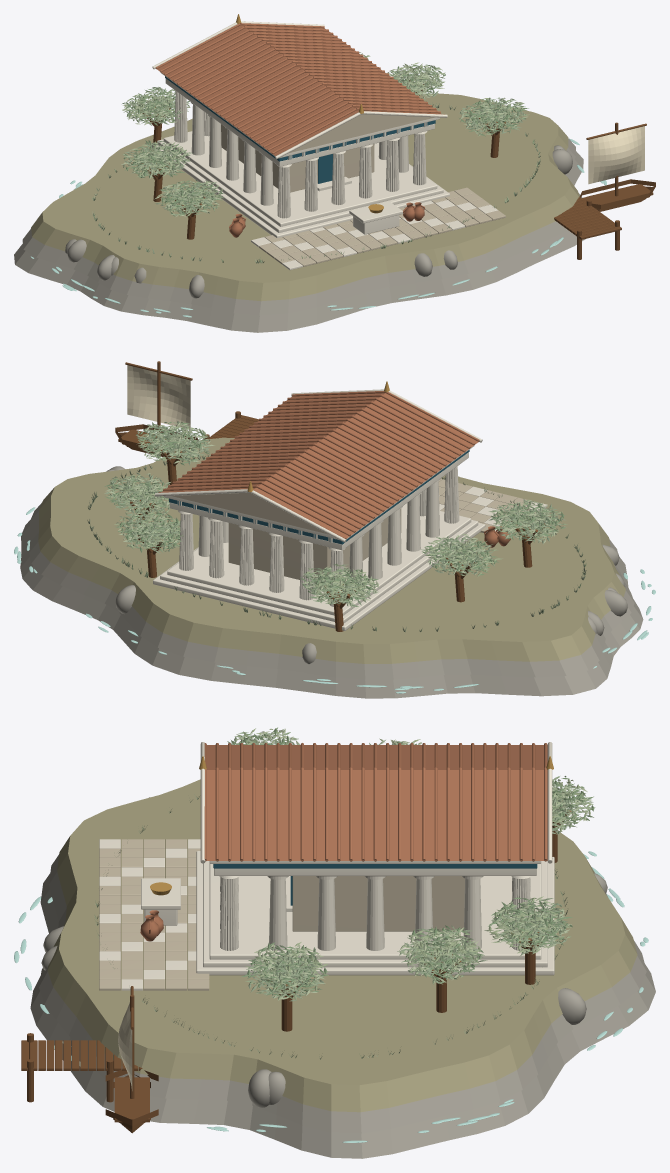
Rendered from sanctuary.glb.
The picture shows the model from 3 angles, top to bottom: view 1: azimuth 30°, elevation 25°; view 2: azimuth 150°, elevation 25°; view 3: azimuth 270°, elevation 25°; orthographic projection. The views are drawn at different scales.
Visible parts, largest first — view 1: Isla estrato 2, Isla estrato 0, Cubierta terracota, Isla estrato 1, Crepidoma escalón 2, Cubierta terracota.001, Voile gonflée en lin, Olivo 4 — hojas lanceoladas, Olivo 1 — hojas lanceoladas, Olivo 2 — hojas lanceoladas, Crepidoma escalón 1, Naos (+24 smaller); view 2: Isla estrato 2, Isla estrato 0, Isla estrato 1, Cubierta terracota, Crepidoma escalón 2, Cubierta terracota.001, Voile gonflée en lin, Naos, Crepidoma escalón 0, Crepidoma escalón 1, Olivo 4 — hojas lanceoladas, Olivo 2 — hojas lanceoladas (+19 smaller); view 3: Isla estrato 2, Cubierta terracota.001, Isla estrato 0, Isla estrato 1, Crepidoma escalón 2, Naos, Cubierta terracota, Olivo 4 — hojas lanceoladas, Crepidoma escalón 0, Olivo 3 — hojas lanceoladas, Olivo 6 — hojas lanceoladas, Crepidoma escalón 1 (+16 smaller).
Boxes of the visible parts, <box> form: Isla estrato 2: <box>31,93,579,301</box>; Isla estrato 0: <box>14,151,585,332</box>; Cubierta terracota: <box>157,25,358,156</box>; Isla estrato 1: <box>22,138,582,315</box>; Crepidoma escalón 2: <box>163,131,437,226</box>; Cubierta terracota.001: <box>241,25,441,114</box>; Voile gonflée en lin: <box>588,126,644,184</box>; Olivo 4 — hojas lanceoladas: <box>459,97,529,136</box>; Olivo 1 — hojas lanceoladas: <box>121,140,193,178</box>; Olivo 2 — hojas lanceoladas: <box>154,180,224,217</box>; Crepidoma escalón 1: <box>157,139,443,232</box>; Naos: <box>221,124,374,192</box>; Isla estrato 2: <box>38,437,625,663</box>; Isla estrato 0: <box>20,520,643,698</box>; Isla estrato 1: <box>29,503,634,679</box>; Cubierta terracota: <box>254,393,478,538</box>; Crepidoma escalón 2: <box>167,503,471,615</box>; Cubierta terracota.001: <box>162,393,385,491</box>; Voile gonflée en lin: <box>127,365,190,429</box>; Naos: <box>228,508,401,583</box>; Crepidoma escalón 0: <box>153,522,485,630</box>; Crepidoma escalón 1: <box>160,520,478,623</box>; Olivo 4 — hojas lanceoladas: <box>136,421,214,465</box>; Olivo 2 — hojas lanceoladas: <box>489,498,567,543</box>; Isla estrato 2: <box>47,779,637,1112</box>; Cubierta terracota.001: <box>205,770,547,860</box>; Isla estrato 0: <box>30,873,655,1158</box>; Isla estrato 1: <box>39,854,646,1133</box>; Crepidoma escalón 2: <box>209,864,541,959</box>; Naos: <box>292,876,464,931</box>; Cubierta terracota: <box>207,745,547,769</box>; Olivo 4 — hojas lanceoladas: <box>240,942,329,1001</box>; Crepidoma escalón 0: <box>196,851,554,975</box>; Olivo 3 — hojas lanceoladas: <box>397,925,487,984</box>; Olivo 6 — hojas lanceoladas: <box>484,896,572,956</box>; Crepidoma escalón 1: <box>203,861,547,967</box>.
Size of what is drawn, in the model's own units: 39.63 by 10.82 by 29.04.
